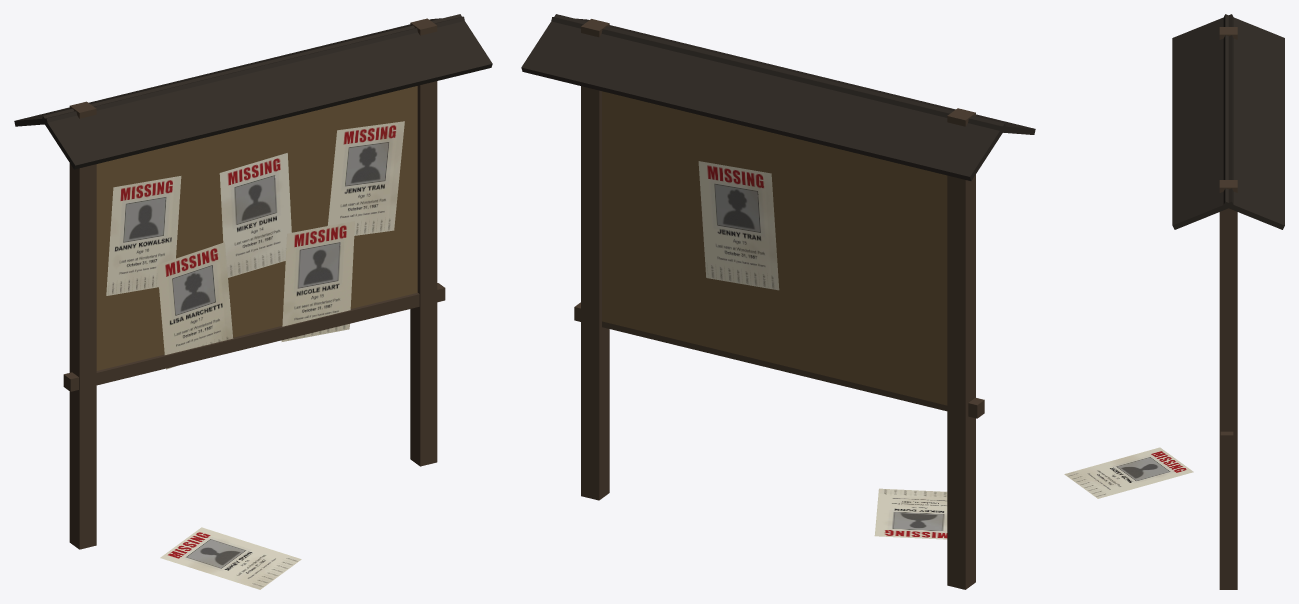
The model's file is missing_board.glb.
3 views of the same model, side by side, from view 1: azimuth 30°, elevation 25°; view 2: azimuth 150°, elevation 25°; view 3: azimuth 270°, elevation 25° (orthographic). The views are drawn at different scales.
Parts seen in each view (by area): view 1: poster, board, roof, post; view 2: board, roof, post, poster; view 3: roof, post, poster.
Boxes of the visible parts, box(x1,y1,x2,y2) form: poster: box(106, 121, 404, 589); board: box(96, 86, 417, 370); roof: box(14, 14, 492, 169); post: box(63, 18, 445, 549); board: box(602, 91, 947, 405); roof: box(521, 14, 1035, 180); post: box(574, 19, 984, 589); poster: box(698, 161, 947, 539); roof: box(1172, 14, 1284, 229); post: box(1219, 27, 1237, 589); poster: box(1064, 447, 1193, 498).
Bounding box in the file's own units: 2.45 × 2.46 × 1.22.
Materials: 4 (1 with a texture image).
